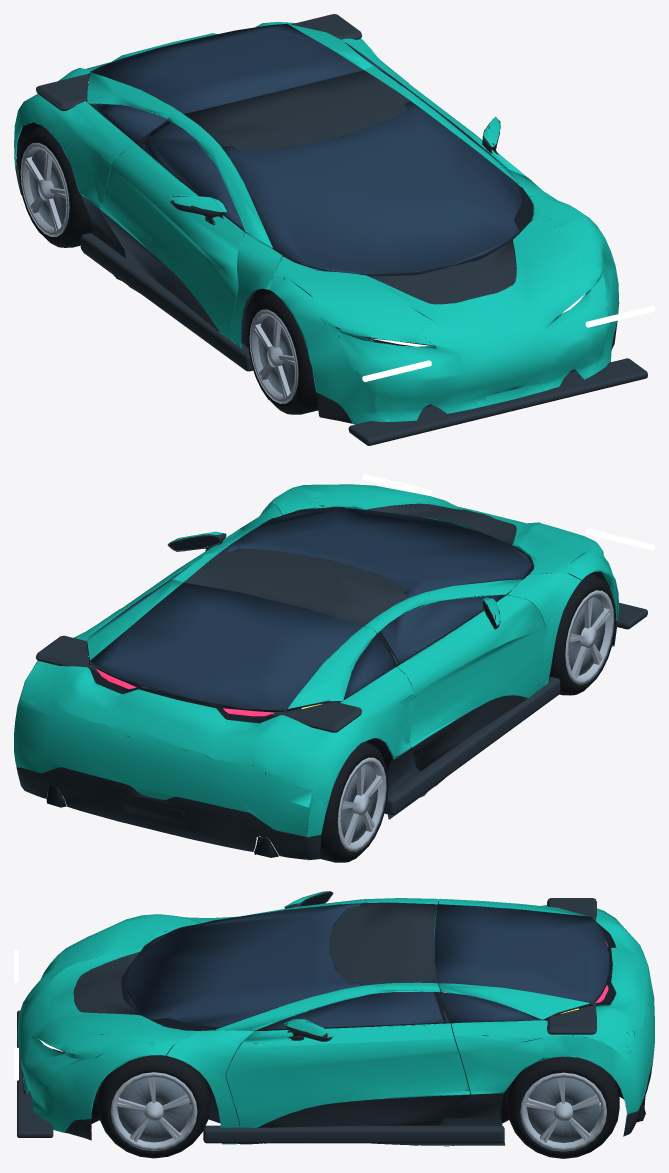
The model's file is apex-lod1.glb.
The picture shows the model from 3 angles, top to bottom: view 1: azimuth 30°, elevation 25°; view 2: azimuth 150°, elevation 25°; view 3: azimuth 270°, elevation 25°; orthographic projection. The views are drawn at different scales.
Parts seen in each view (by area): view 1: Body, WheelFrontR, WheelRearR; view 2: Body, WheelRearR, WheelFrontR; view 3: Body, WheelFrontL, WheelRearL.
Part boxes in pixels (x1,y1,x2,y2): Body: (14, 14, 654, 445); WheelFrontR: (247, 292, 318, 414); WheelRearR: (18, 126, 92, 247); Body: (14, 474, 654, 860); WheelRearR: (319, 741, 388, 862); WheelFrontR: (549, 573, 615, 695); Body: (14, 891, 654, 1146); WheelFrontL: (98, 1053, 210, 1158); WheelRearL: (507, 1056, 619, 1158).
Bounding box in the file's own units: 2.34 × 1.15 × 4.38.
